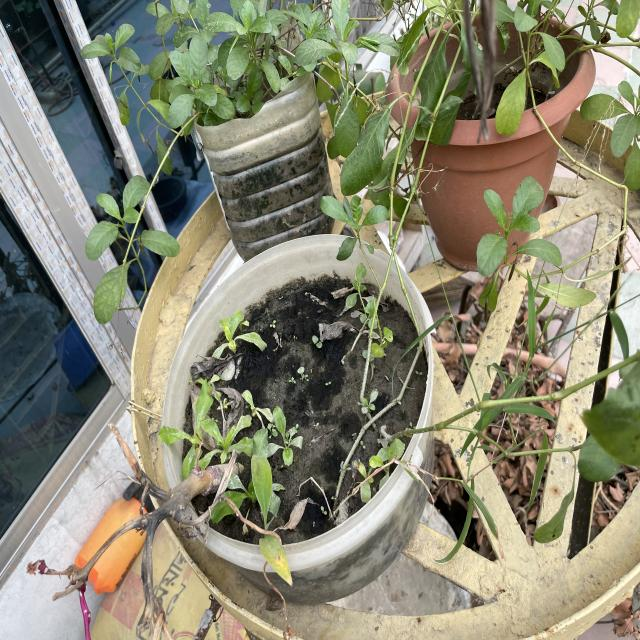Breeding Place: (165, 247, 437, 602), (407, 26, 576, 269), (197, 49, 335, 259)
